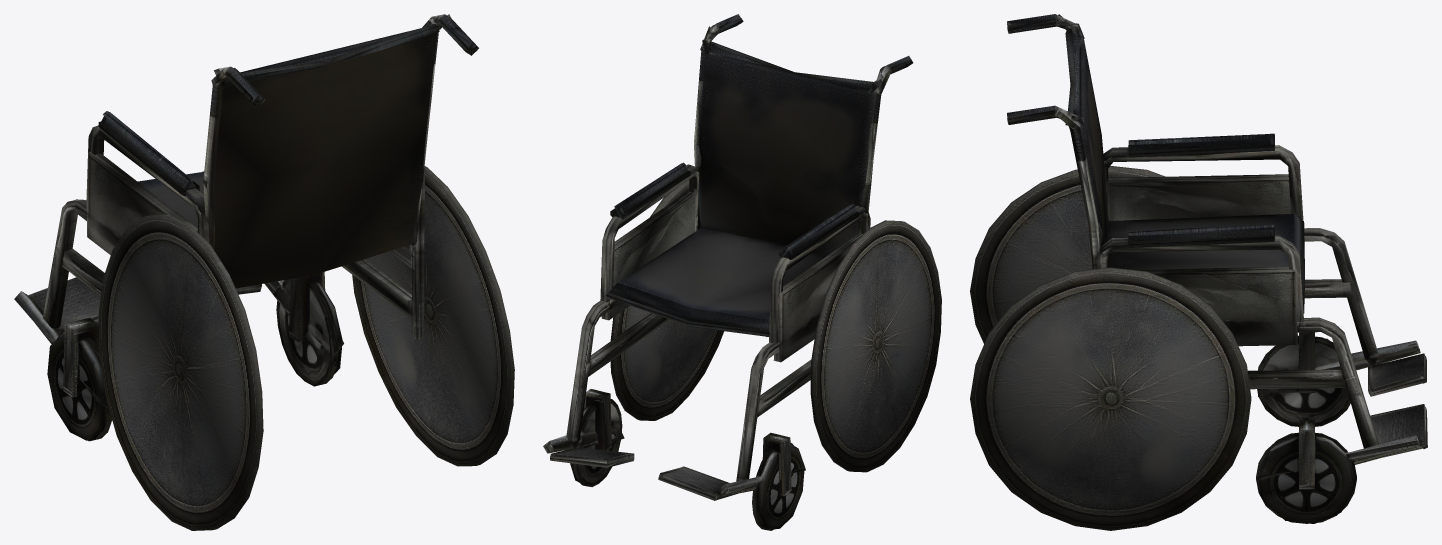
The model's file is WheelChair.fbx.
3 renders of one model, left to right at view 1: azimuth 30°, elevation 25°; view 2: azimuth 150°, elevation 25°; view 3: azimuth 270°, elevation 25°, orthographic. The views are drawn at different scales.
Visible parts, largest first — view 1: tripo_node_54bd7e13-6cb0-4e9c-8a4b-a4c19a05d2e6; view 2: tripo_node_54bd7e13-6cb0-4e9c-8a4b-a4c19a05d2e6; view 3: tripo_node_54bd7e13-6cb0-4e9c-8a4b-a4c19a05d2e6.
Part boxes in pixels (bbox=[...]): tripo_node_54bd7e13-6cb0-4e9c-8a4b-a4c19a05d2e6: bbox=[14, 14, 514, 530]; tripo_node_54bd7e13-6cb0-4e9c-8a4b-a4c19a05d2e6: bbox=[543, 14, 941, 530]; tripo_node_54bd7e13-6cb0-4e9c-8a4b-a4c19a05d2e6: bbox=[970, 14, 1427, 530].
Bounding box in the file's own units: 59.57 × 99.8 × 99.81.
1 material, 1 textured.
